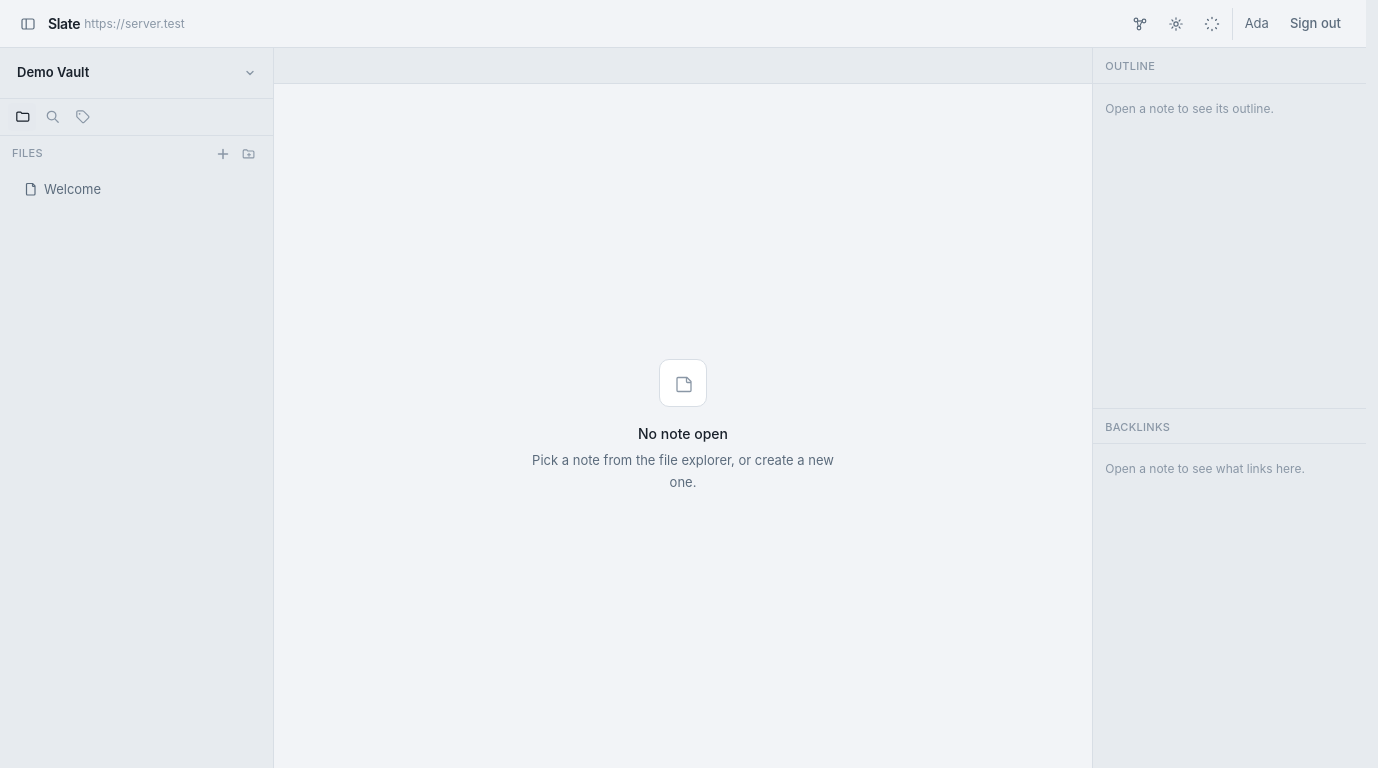
it: AppShell (workspace integration) › opening a note from the explorer shows it in the tab bar and loads its content
The image size is (1378, 768).
Click the text "Welcome": (73, 188) [44, 180, 101, 196]
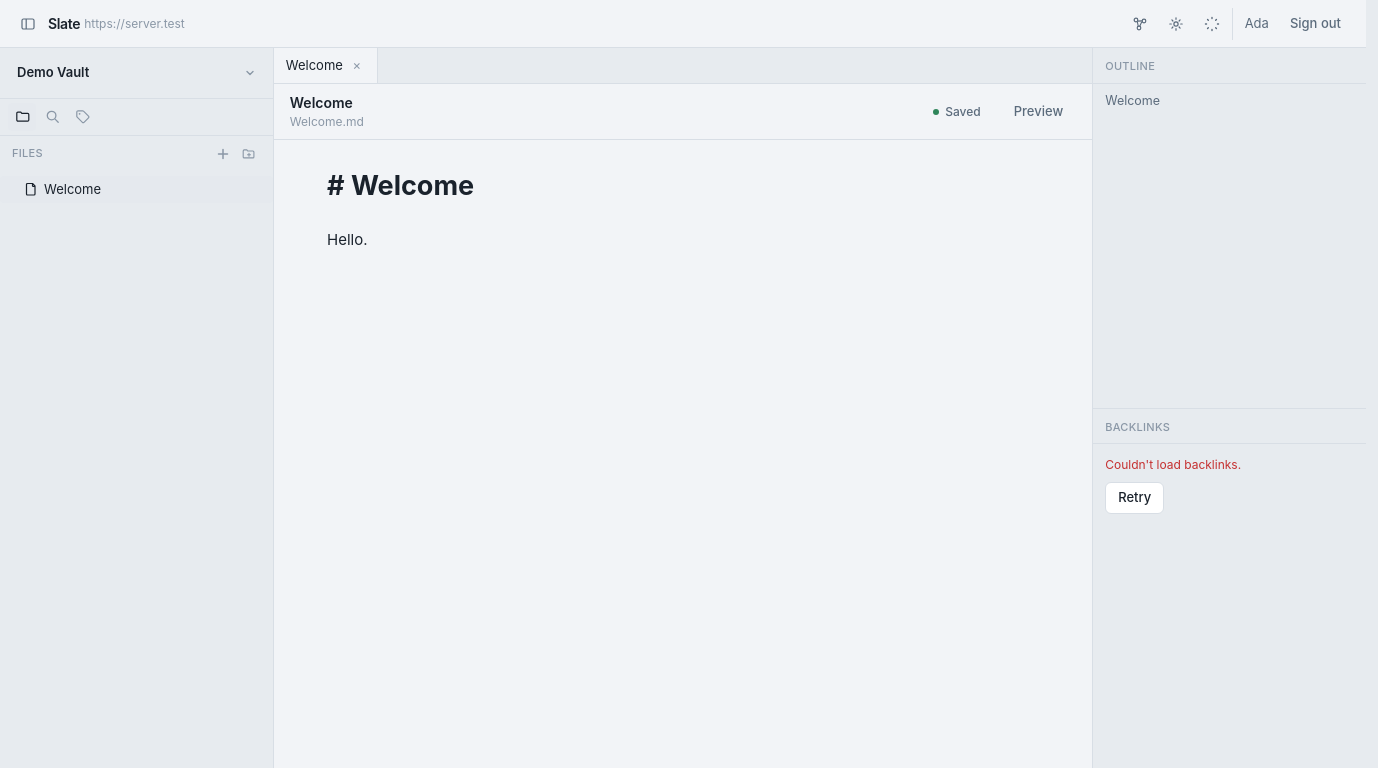
Check: the tab "Welcome ×" is shown, box [274, 48, 378, 83]
Check: the text box "Hello." is shown, box [327, 230, 368, 249]
